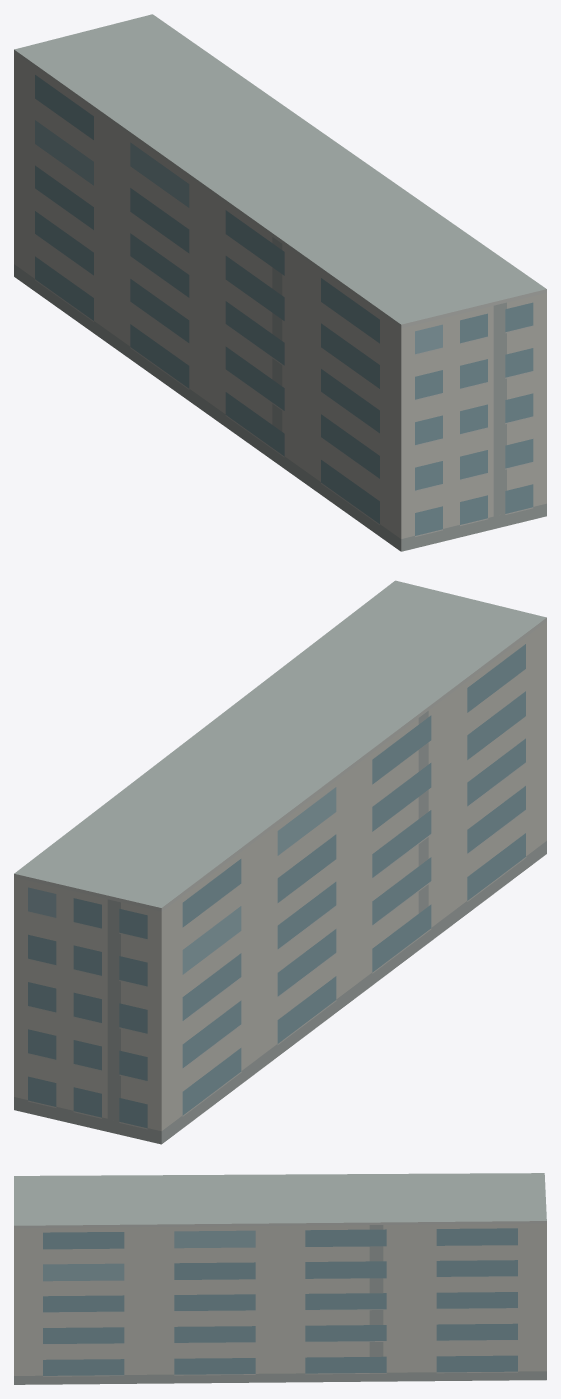
File: residential-8e9fa1cc-29db-4d5c-918d-96c2a57e26c6.glb
The picture shows the model from 3 angles, top to bottom: view 1: azimuth 30°, elevation 25°; view 2: azimuth 150°, elevation 25°; view 3: azimuth 270°, elevation 25°; orthographic projection. The views are drawn at different scales.
Visible parts, largest first — view 1: residential-8e9fa1cc-29db-4d5c-918d-96c2a57e26c6.tmp; view 2: residential-8e9fa1cc-29db-4d5c-918d-96c2a57e26c6.tmp; view 3: residential-8e9fa1cc-29db-4d5c-918d-96c2a57e26c6.tmp.
Part boxes in pixels (bbox=[...]): residential-8e9fa1cc-29db-4d5c-918d-96c2a57e26c6.tmp: bbox=[14, 14, 546, 551]; residential-8e9fa1cc-29db-4d5c-918d-96c2a57e26c6.tmp: bbox=[14, 580, 546, 1144]; residential-8e9fa1cc-29db-4d5c-918d-96c2a57e26c6.tmp: bbox=[14, 1173, 546, 1384].
Size of the model in its own units: 10.84 by 15.25 by 46.3.
